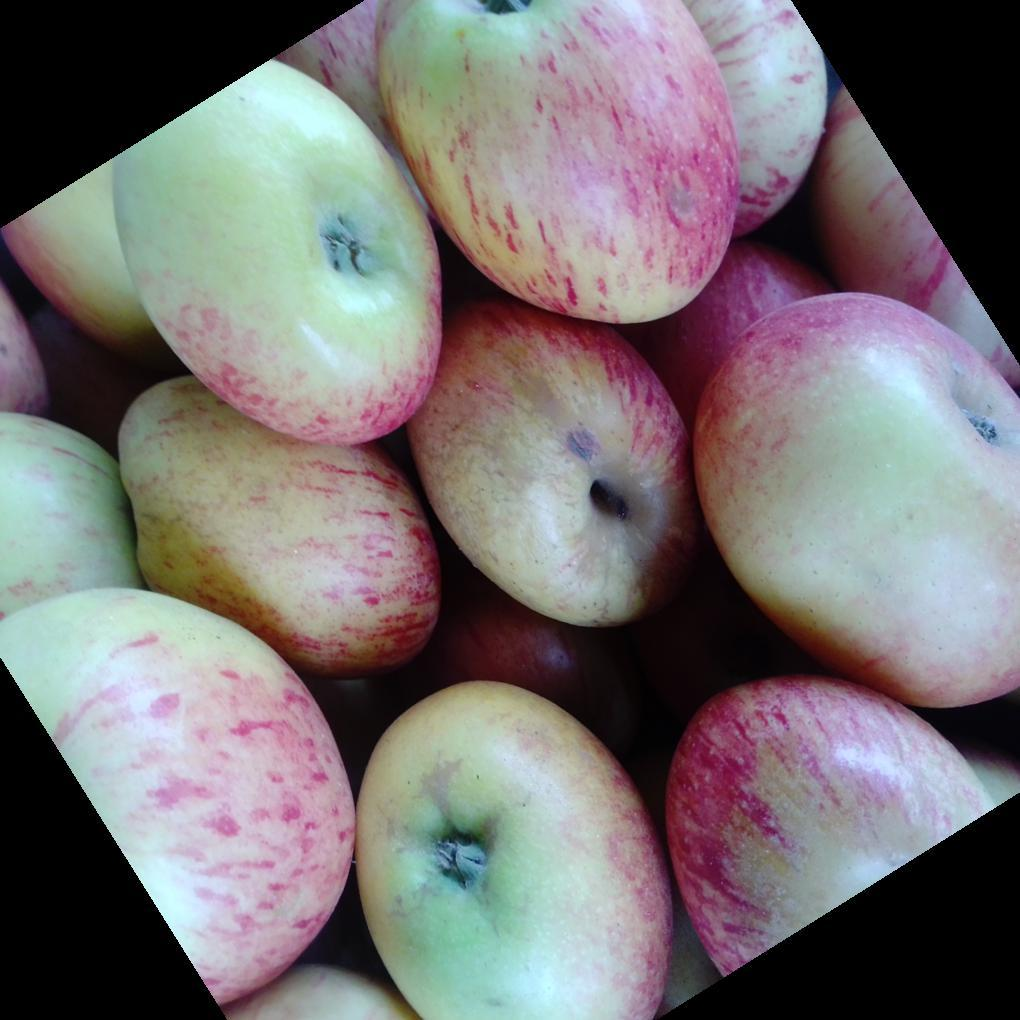FreshGuava: (8, 36, 1020, 1020)
